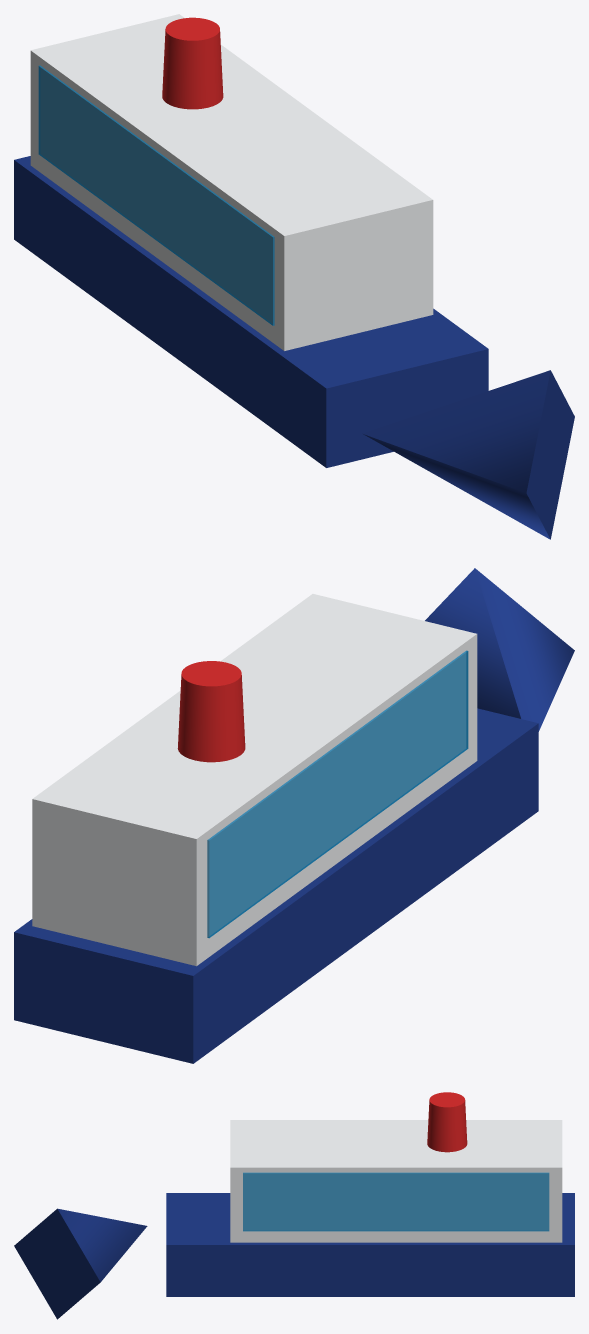
File: cruise.glb
3 renders of one model, top to bottom at view 1: azimuth 30°, elevation 25°; view 2: azimuth 150°, elevation 25°; view 3: azimuth 270°, elevation 25°, orthographic. The views are drawn at different scales.
Bounding box in the file's own units: 0.267 × 0.3949 × 1.
